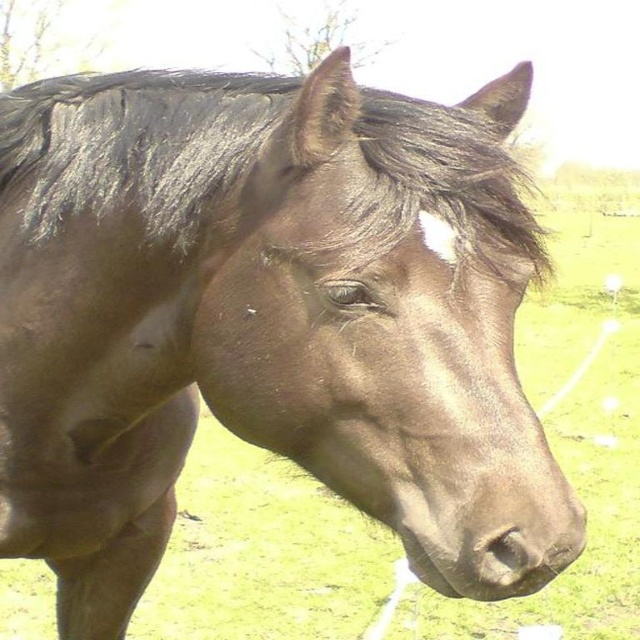Horse: (0, 39, 590, 639)
